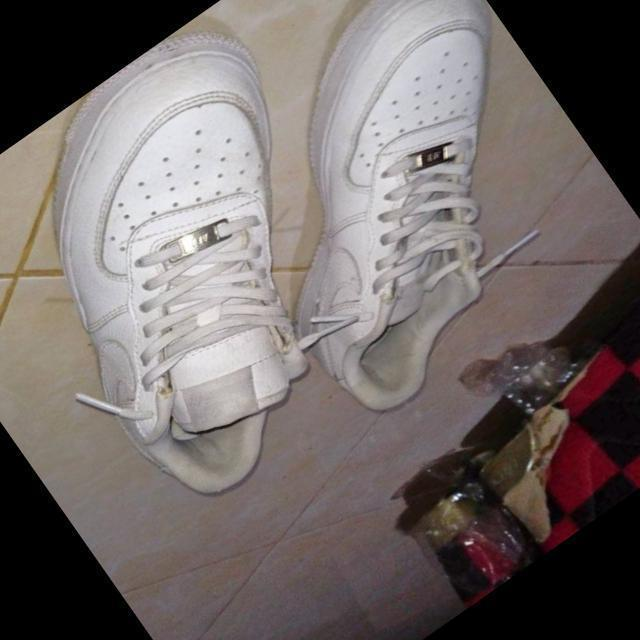nike fake air force: (0, 0, 451, 524), (132, 0, 640, 454)
